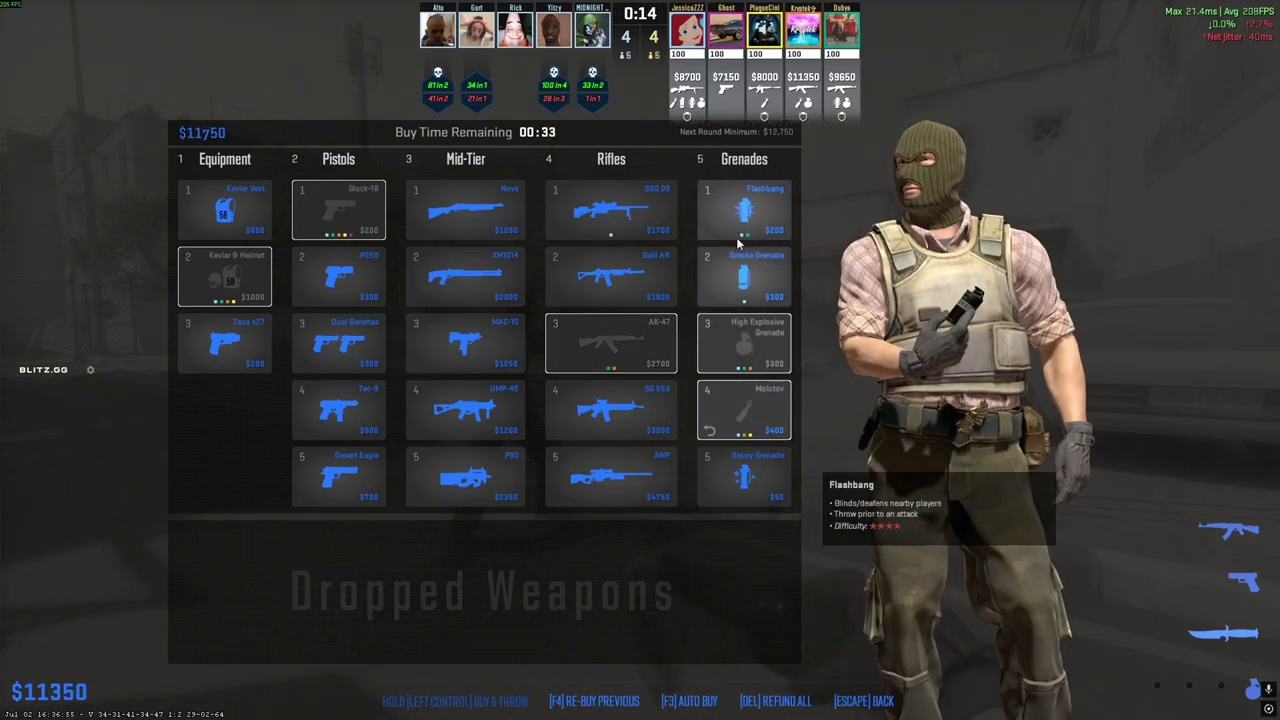Terrorist: (850, 120, 1076, 720)
